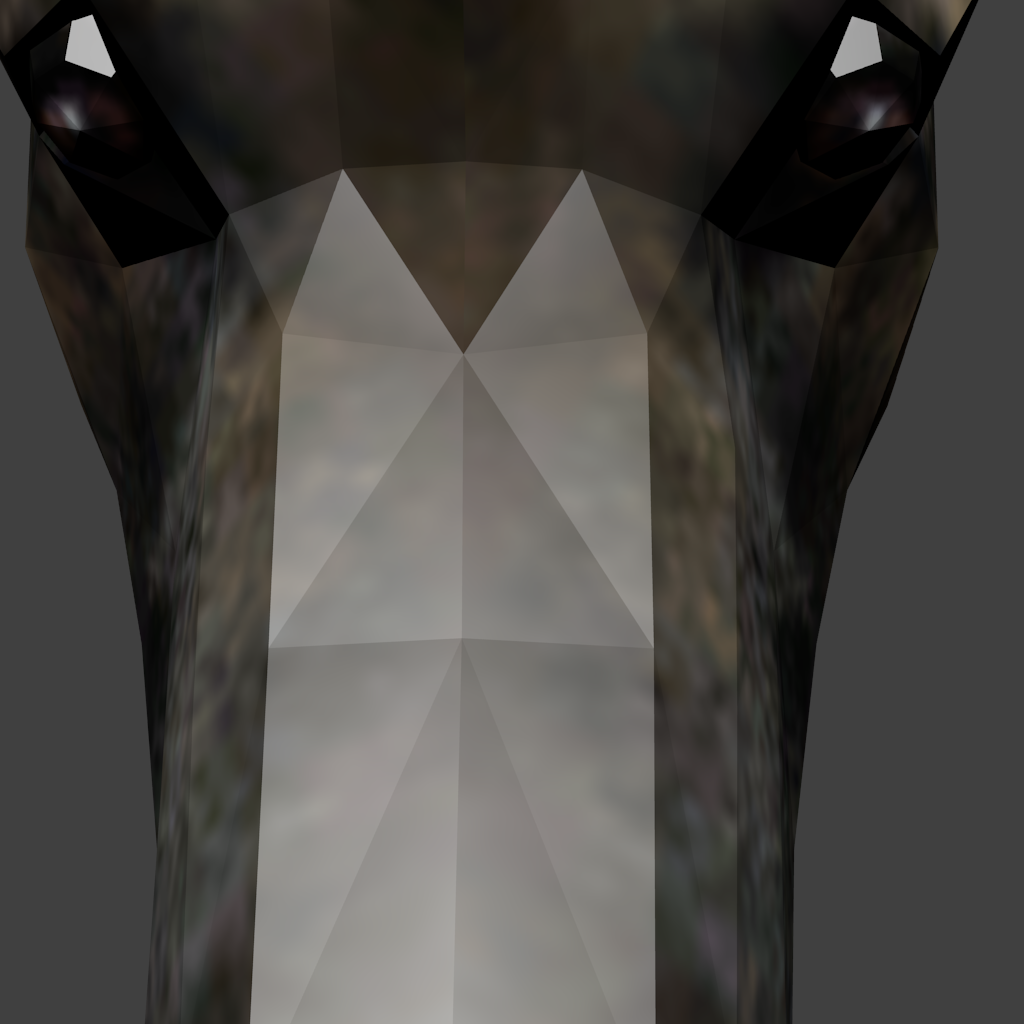Dog: (0, 0, 1024, 1024)
